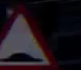Speed Breaker ahead: (2, 6, 56, 68)
